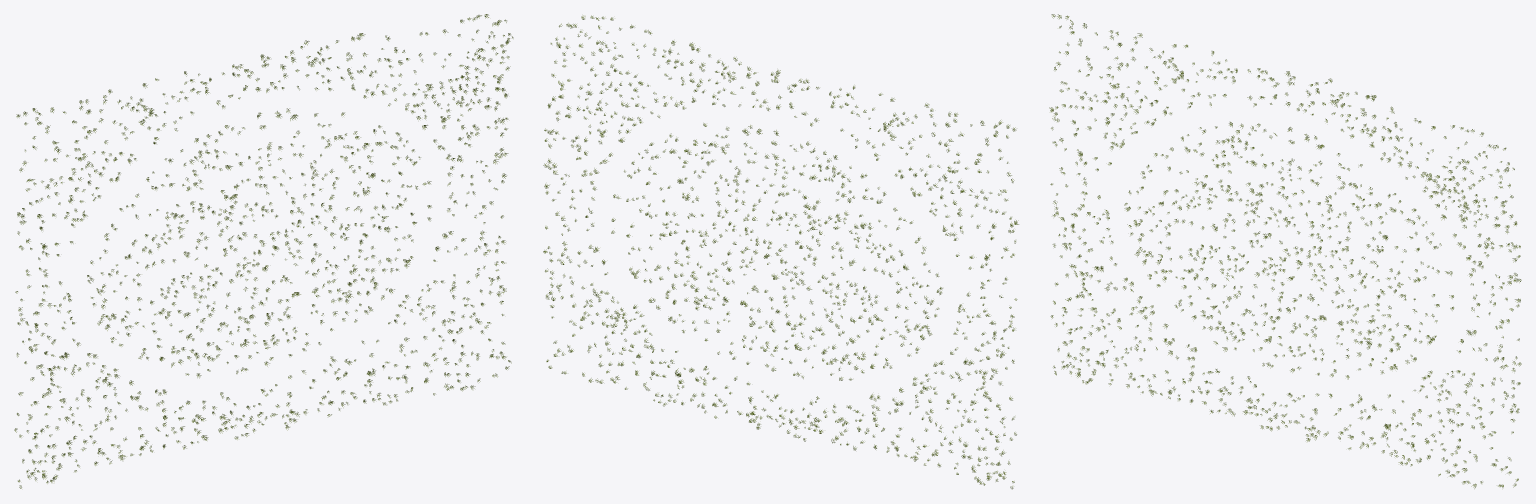
File: undergrowth.obj
3 views of the same model, side by side, from view 1: azimuth 30°, elevation 25°; view 2: azimuth 150°, elevation 25°; view 3: azimuth 330°, elevation 25° (orthographic). The views are drawn at different scales.
Parts seen in each view (by area): view 1: undergrowth; view 2: undergrowth; view 3: undergrowth.
Boxes of the visible parts, x1=… form: undergrowth: x1=14, y1=14, x2=513, y2=488; undergrowth: x1=543, y1=15, x2=1018, y2=489; undergrowth: x1=1049, y1=14, x2=1521, y2=488.
Bounding box in the file's own units: 76.37 × 56.85 × 6.48.
